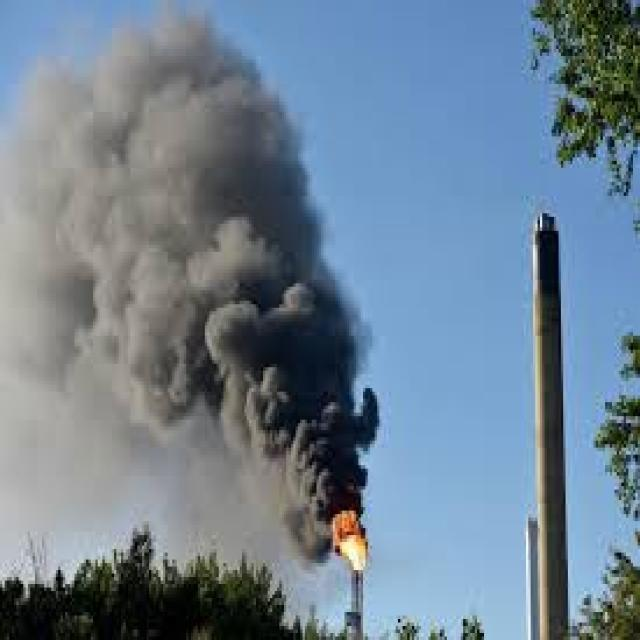Smoke: (0, 0, 381, 577)
